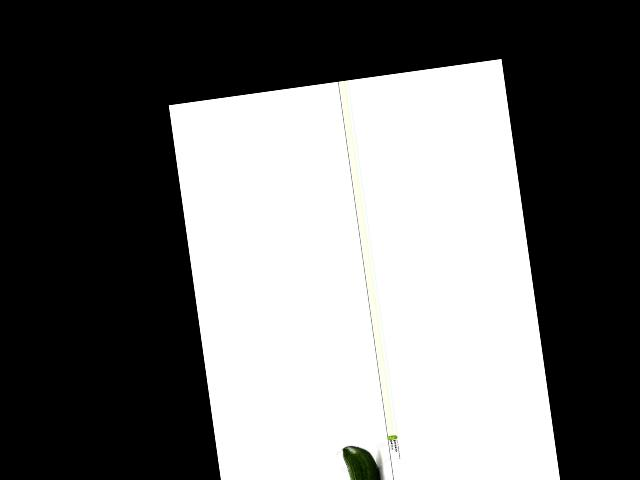cucumber: (341, 443, 384, 480)
